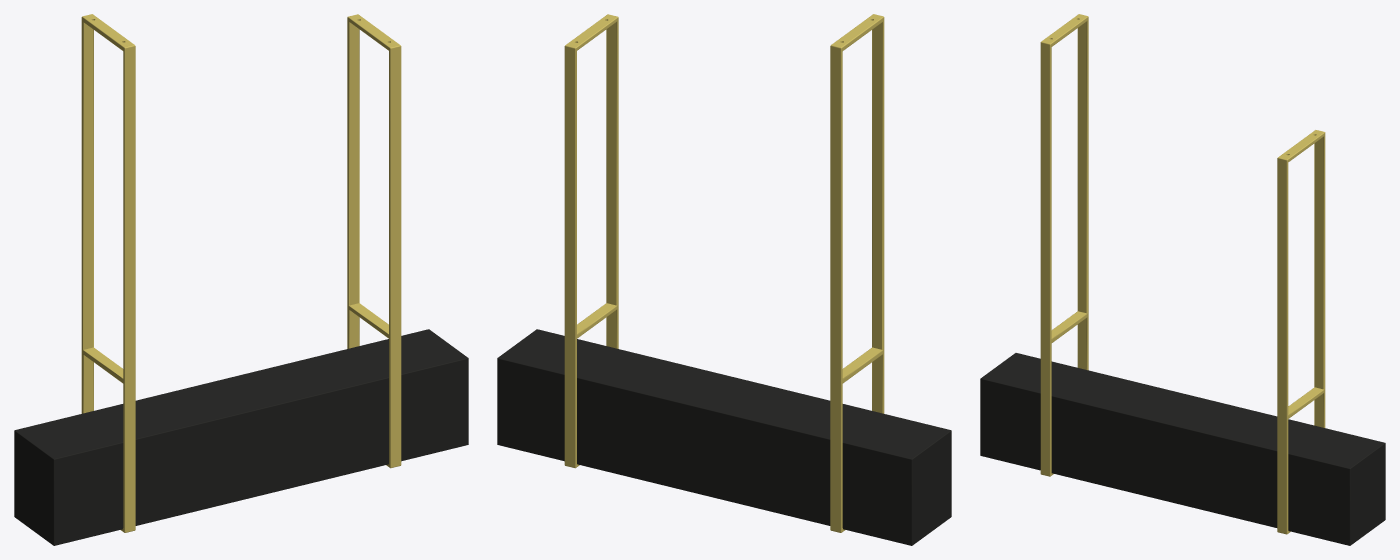
The model's file is Lampara1.obj.
The picture shows the model from 3 angles, left to right: view 1: azimuth 30°, elevation 25°; view 2: azimuth 150°, elevation 25°; view 3: azimuth 330°, elevation 25°; orthographic projection. The views are drawn at different scales.
Visible parts, largest first — view 1: Wooden_light:Component_1_004; view 2: Wooden_light:Component_1_004; view 3: Wooden_light:Component_1_004.
Part boxes in pixels (x1,y1,x2,y2): Wooden_light:Component_1_004: [14, 14, 468, 545]; Wooden_light:Component_1_004: [497, 14, 951, 545]; Wooden_light:Component_1_004: [980, 14, 1385, 545].
Size of the model in its own units: 7.14 by 7.97 by 1.28.
